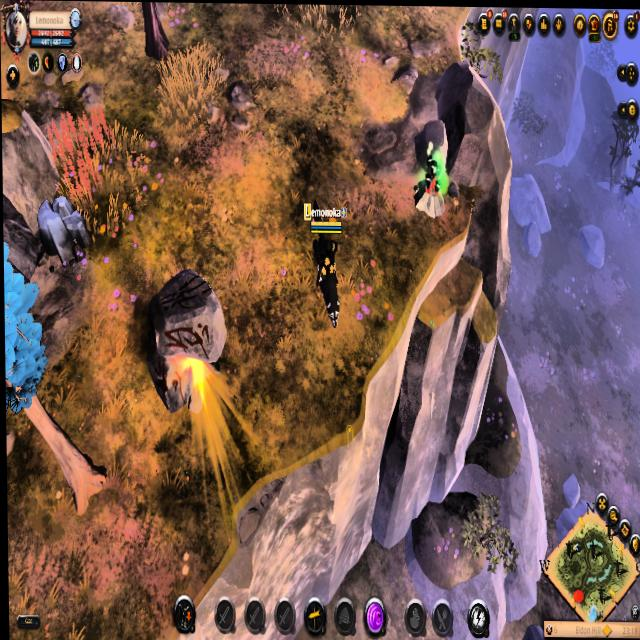ore tier 5: (412, 148, 450, 222)
rock tier 4: (34, 195, 93, 270)
